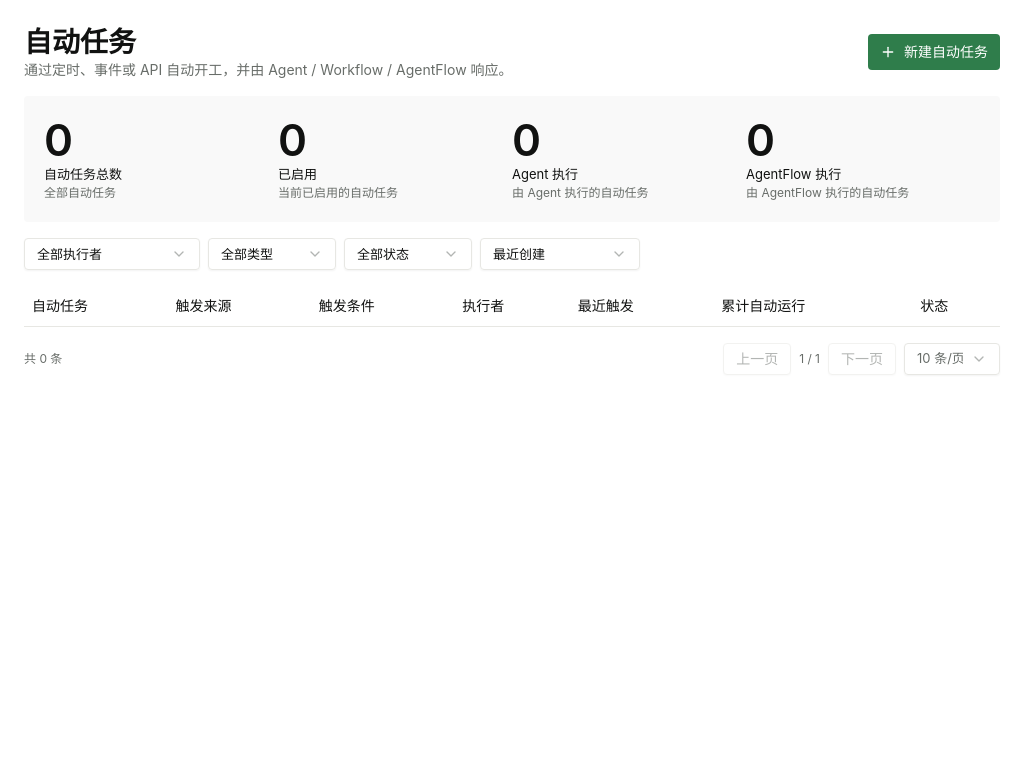
自动任务创建弹窗：可执行对象 › Workflow / AgentFlow 空列表分别显示空态引导
Click the button "新建自动任务": click(934, 52) [868,34,1000,70]
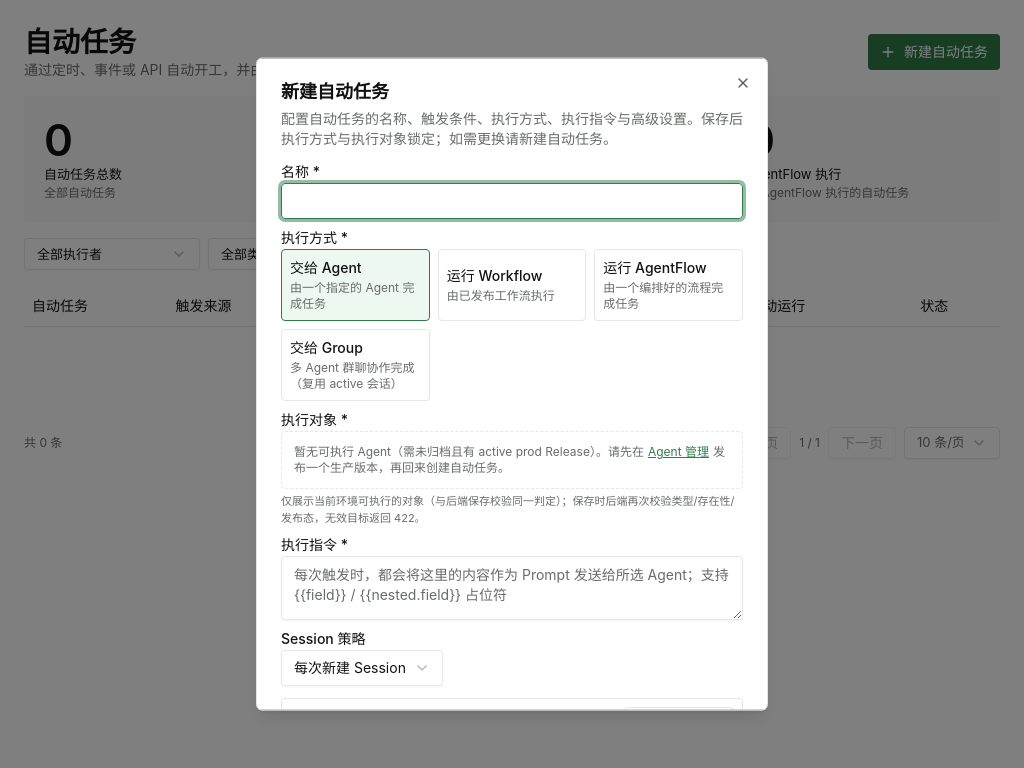
Expected: the element with test id "empty-exec-agent" is shown, [281,431,743,489]
Click the text "运行 Workflow": click(495, 275) [447,267,542,284]
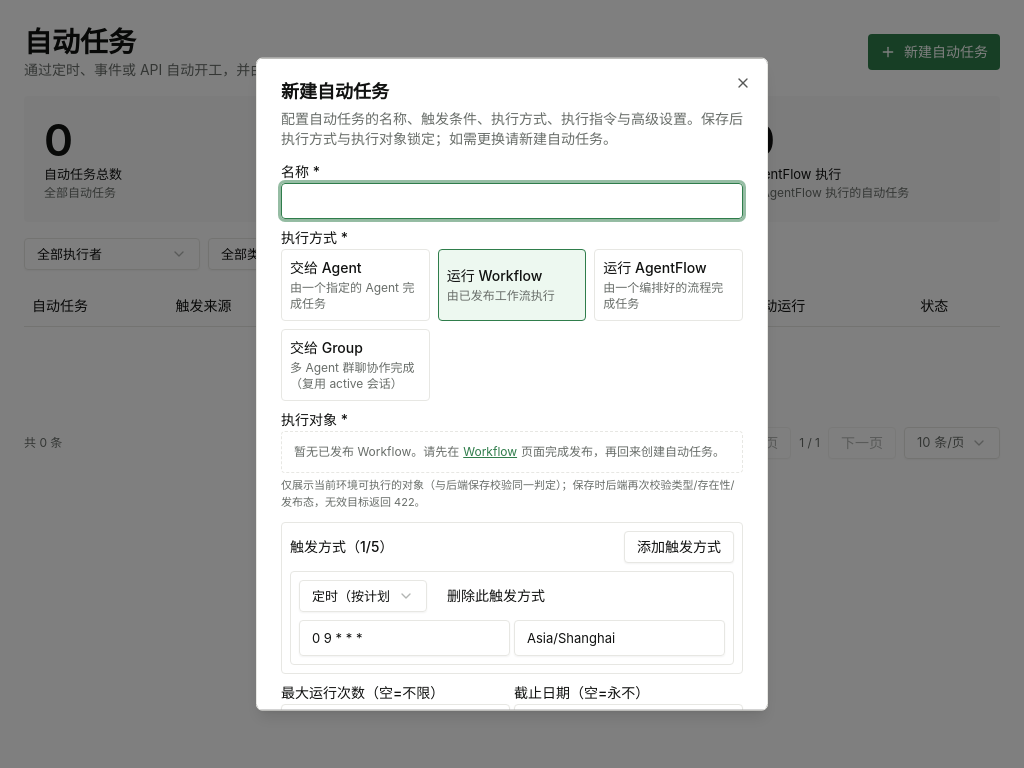
Expected: the element with test id "empty-exec-workflow" shows "暂无已发布 Workflow", [294,444,459,459]
Click the text "运行 AgentFlow": click(655, 267) [603,259,707,276]
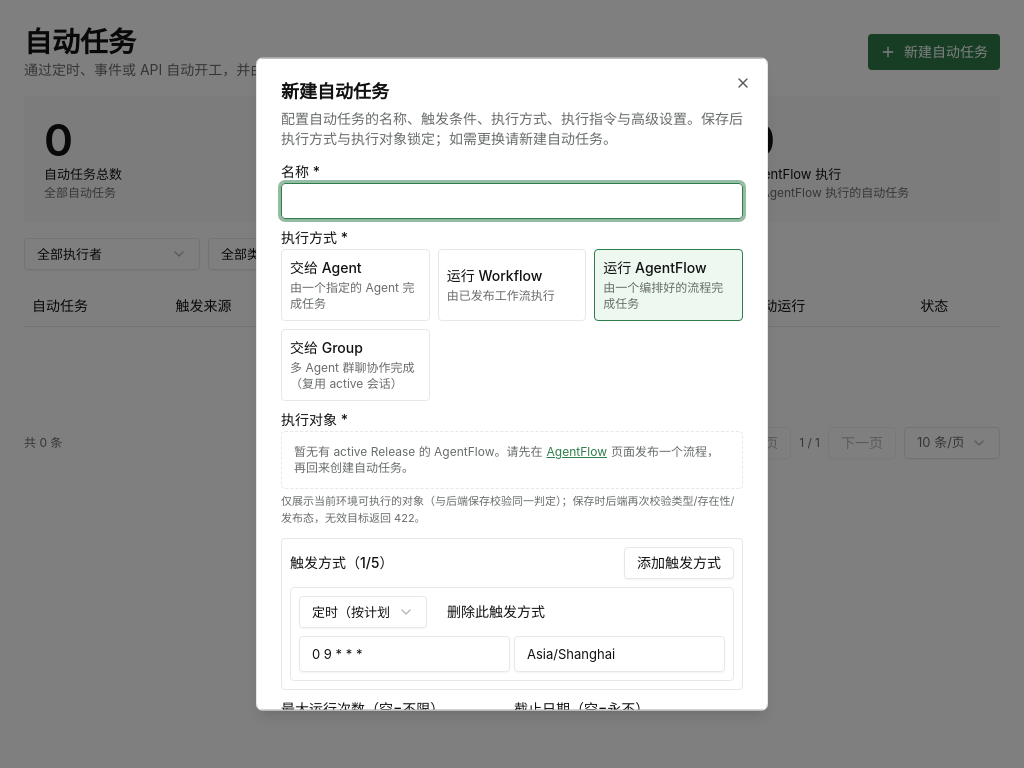
Expected: the element with test id "empty-exec-agentflow" shows "暂无有 active Release 的 AgentFlow", [294,444,542,459]
